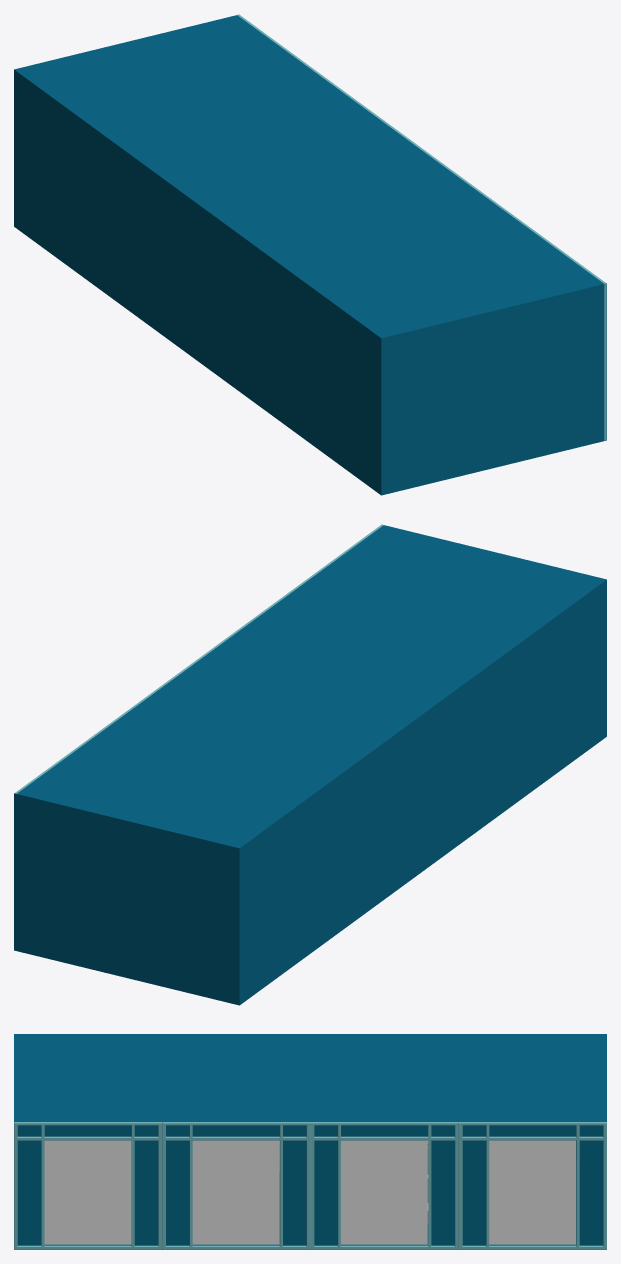
File: Kat-4.fbx
3 views of the same model, one above another, from view 1: azimuth 30°, elevation 25°; view 2: azimuth 150°, elevation 25°; view 3: azimuth 270°, elevation 25° (orthographic). The views are drawn at different scales.
Visible parts, largest first — view 1: Bina-4; view 2: Bina-4; view 3: Bina-4, Bina Cam-4.
Boxes of the visible parts, x1,y1,x2,y2 form: Bina-4: (14, 14, 606, 495); Bina-4: (14, 524, 606, 1005); Bina-4: (14, 1034, 606, 1249); Bina Cam-4: (44, 1140, 575, 1244).
Size of the model in its own units: 202 by 135 by 571.
